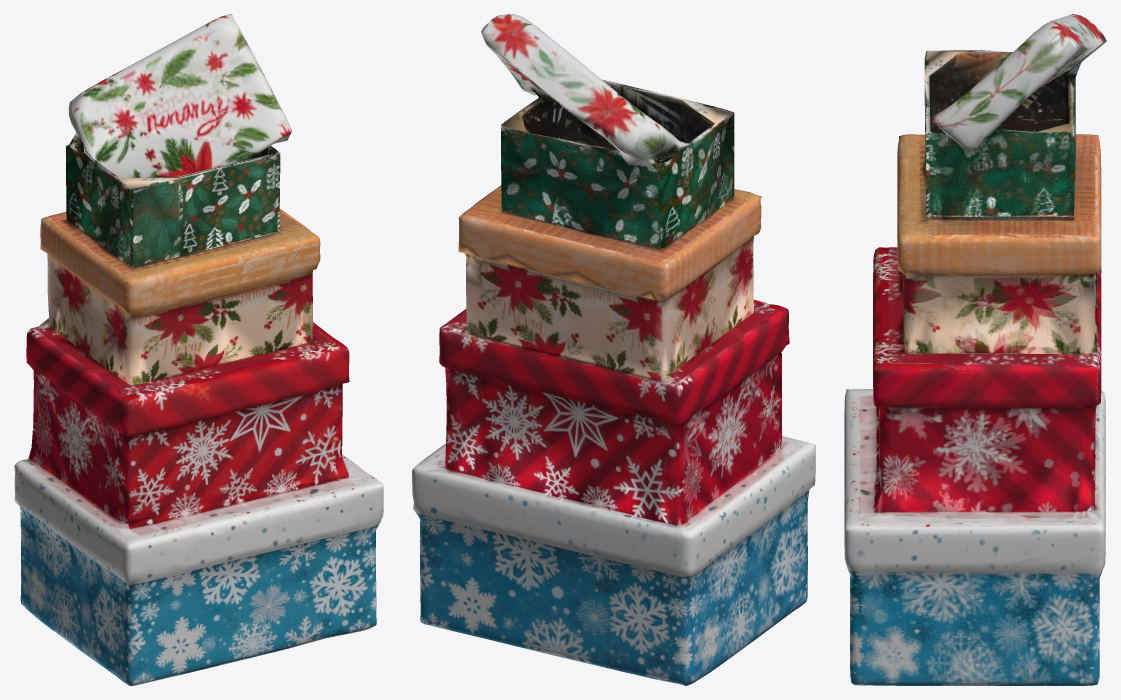
File: Meshy_AI_box_0104071342_texture.fbx
3 views of the same model, side by side, from view 1: azimuth 30°, elevation 25°; view 2: azimuth 150°, elevation 25°; view 3: azimuth 270°, elevation 25° (orthographic). The views are drawn at different scales.
Parts seen in each view (by area): view 1: Mesh0; view 2: Mesh0; view 3: Mesh0.
Boxes of the visible parts, <box> form: Mesh0: <box>14,14,383,685</box>; Mesh0: <box>412,14,815,685</box>; Mesh0: <box>844,14,1106,685</box>.
Size of the model in its own units: 92.36 by 191 by 72.46.
Materials: 1 (1 with a texture image).
